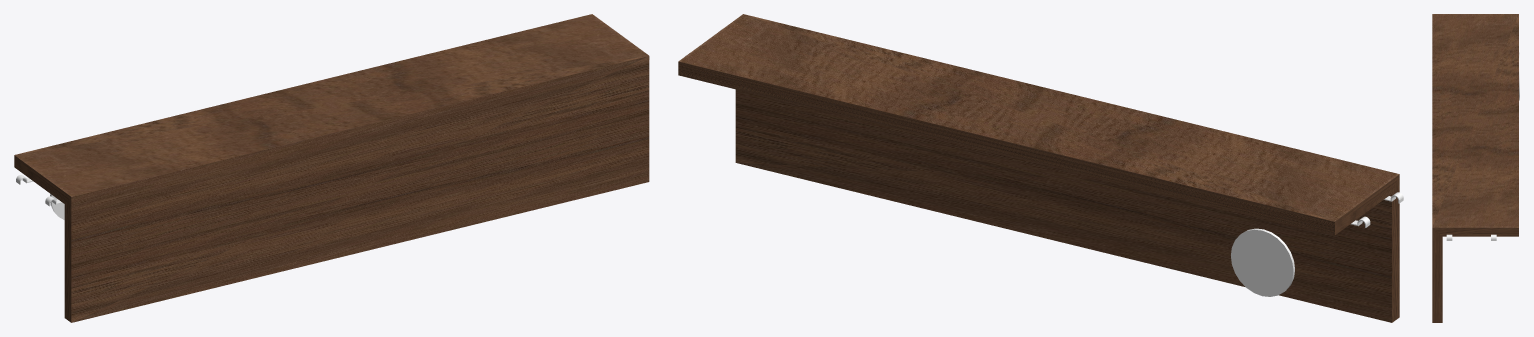
The model's file is anothercomp.fbx.
3 renders of one model, left to right at view 1: azimuth 30°, elevation 25°; view 2: azimuth 150°, elevation 25°; view 3: azimuth 270°, elevation 25°, orthographic. The views are drawn at different scales.
Visible parts, largest first — view 1: group_2; view 2: group_2, group_1; view 3: group_2.
Part boxes in pixels (left/top/right/bottom): group_2: left=14, top=14, right=649, bottom=322; group_2: left=678, top=14, right=1399, bottom=322; group_1: left=1231, top=228, right=1294, bottom=296; group_2: left=1432, top=14, right=1518, bottom=322.
Size of the model in its own units: 77.03 by 15.46 by 12.8.
